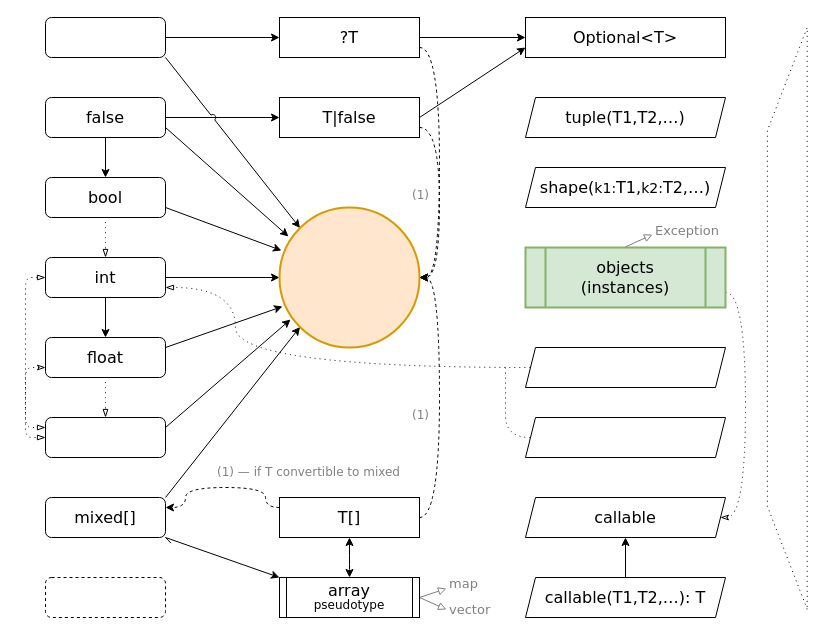
This 825x644 diagram has some shape labels left out. The centre of each missing label's shape, as x and y in pixels:
any: point (786, 317)
future<T>: point (625, 367)
future_queue<T>: point (625, 437)
mixed: point (349, 277)
null: point (105, 37)
string: point (105, 437)
void: point (105, 597)
